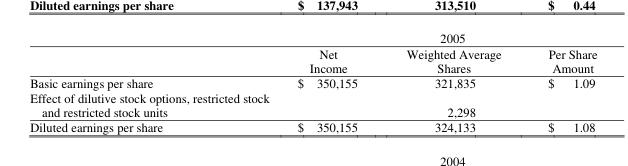table: (29, 29, 596, 135)
table column: (29, 29, 282, 135), (381, 29, 524, 135), (282, 29, 381, 135), (524, 29, 596, 135)
table column header: (29, 29, 596, 74)
table row: (29, 89, 596, 119), (29, 45, 596, 74), (29, 29, 596, 45), (29, 119, 596, 135), (29, 74, 596, 89)
table spanning cell: (282, 29, 596, 45)
